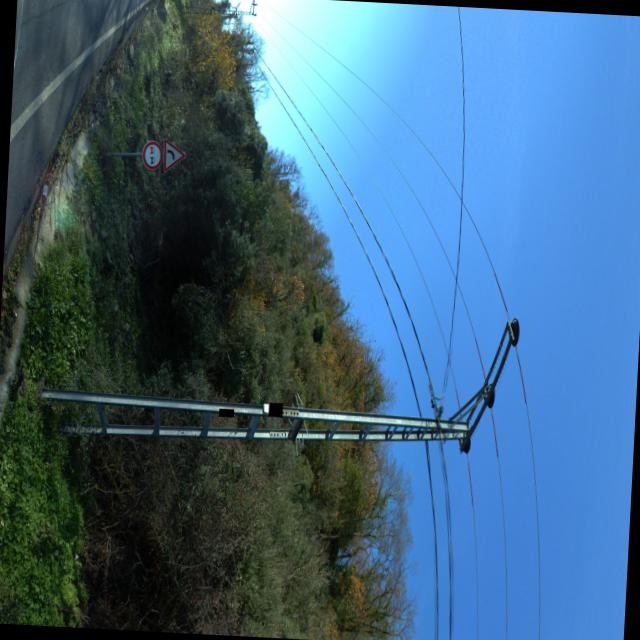Utility Pole Information Plate: (268, 403, 281, 417), (218, 409, 233, 417)
